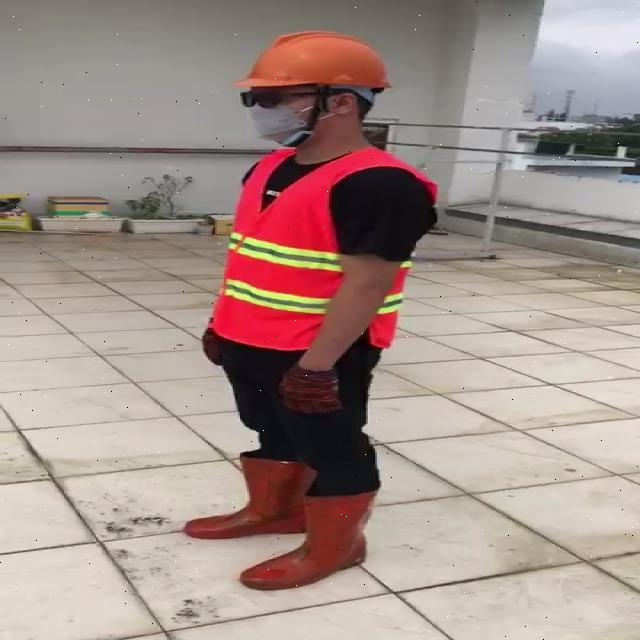Hard_hat: (227, 26, 397, 110)
Person: (193, 18, 453, 637)
Vest: (220, 143, 350, 356)
